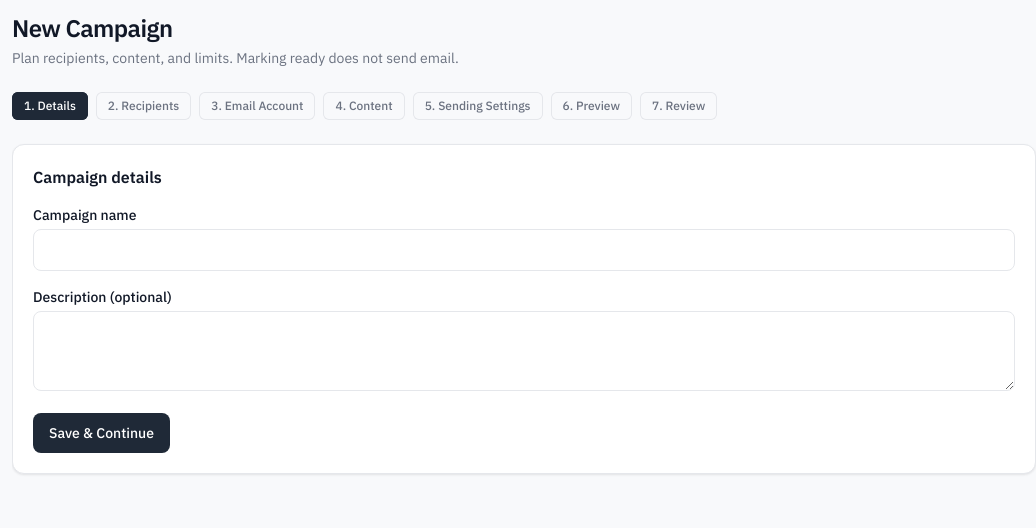
Test: CampaignWizardPage › opens wizard details step and validates name
The width and height of the screenshot is (1036, 528).
Expected: the heading "New Campaign" is shown, [12,12,172,44]
Expected: the field labelled "Campaign name" is shown, [33,229,1015,271]
Click the button "Save & Continue" at (102, 433), box [33,413,170,453]
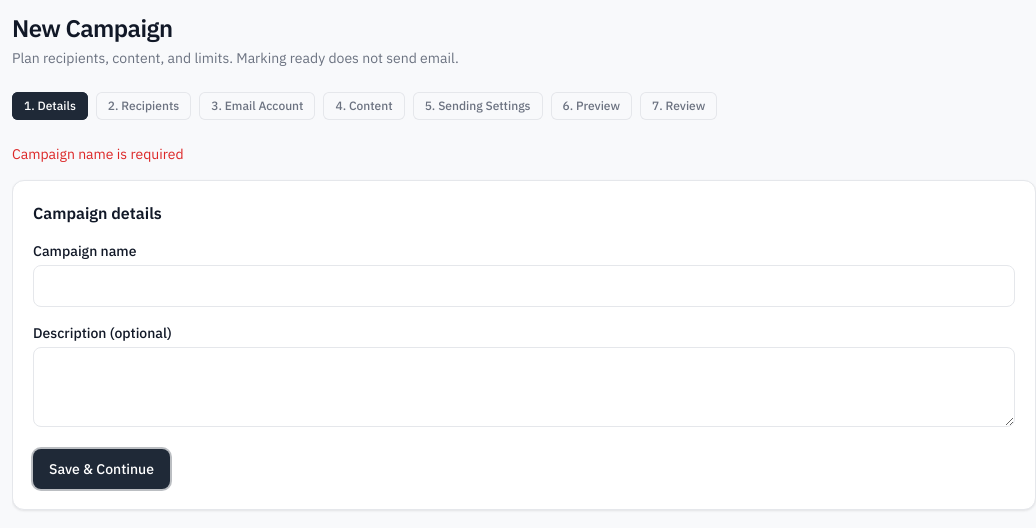
Expected: the text "Campaign name is required" is shown, [12,145,184,163]
